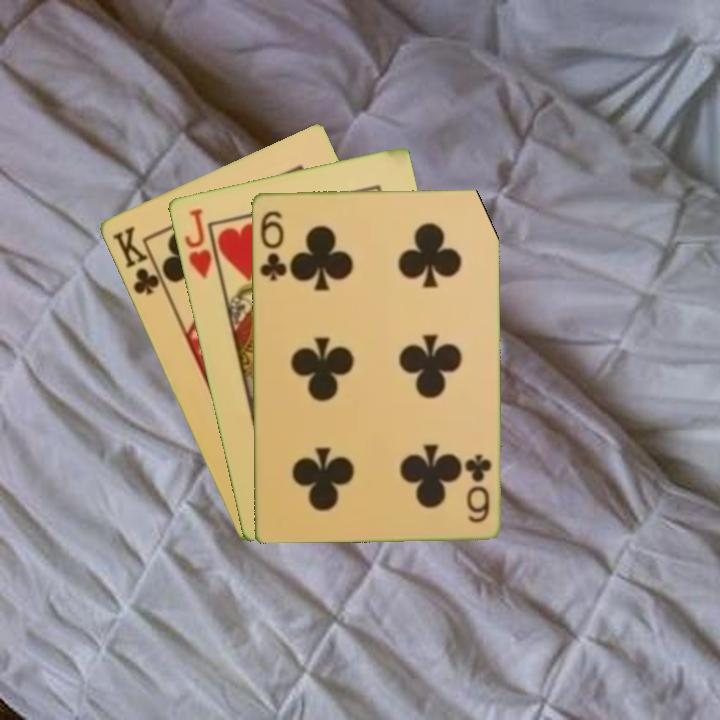6c: (256, 207, 289, 283), (462, 450, 494, 525)
Jh: (180, 204, 223, 284)
Kc: (108, 222, 168, 298)
